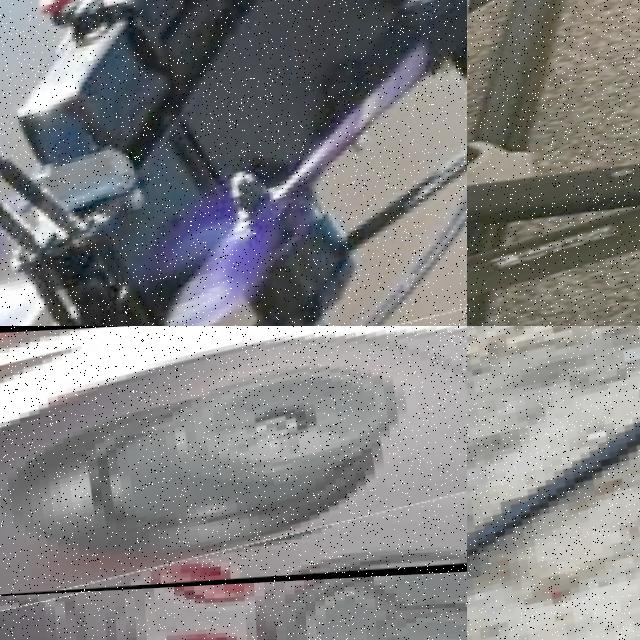drone: (0, 0, 467, 326), (0, 326, 467, 602), (467, 0, 640, 326), (467, 326, 640, 640)
